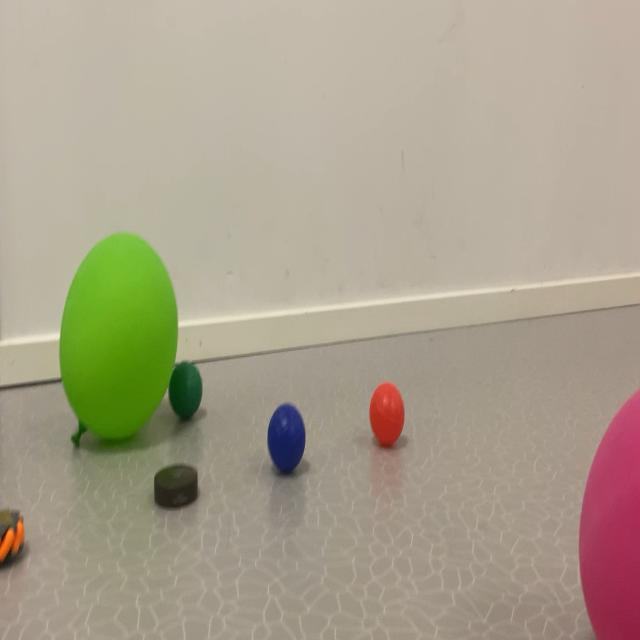7: (356, 355, 428, 495)
green ball: (257, 389, 329, 531)
red ball: (164, 346, 226, 475)
